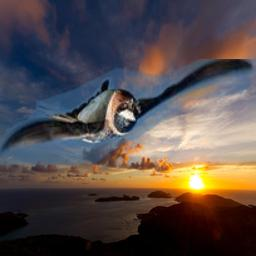Swallow: (0, 59, 256, 165)
